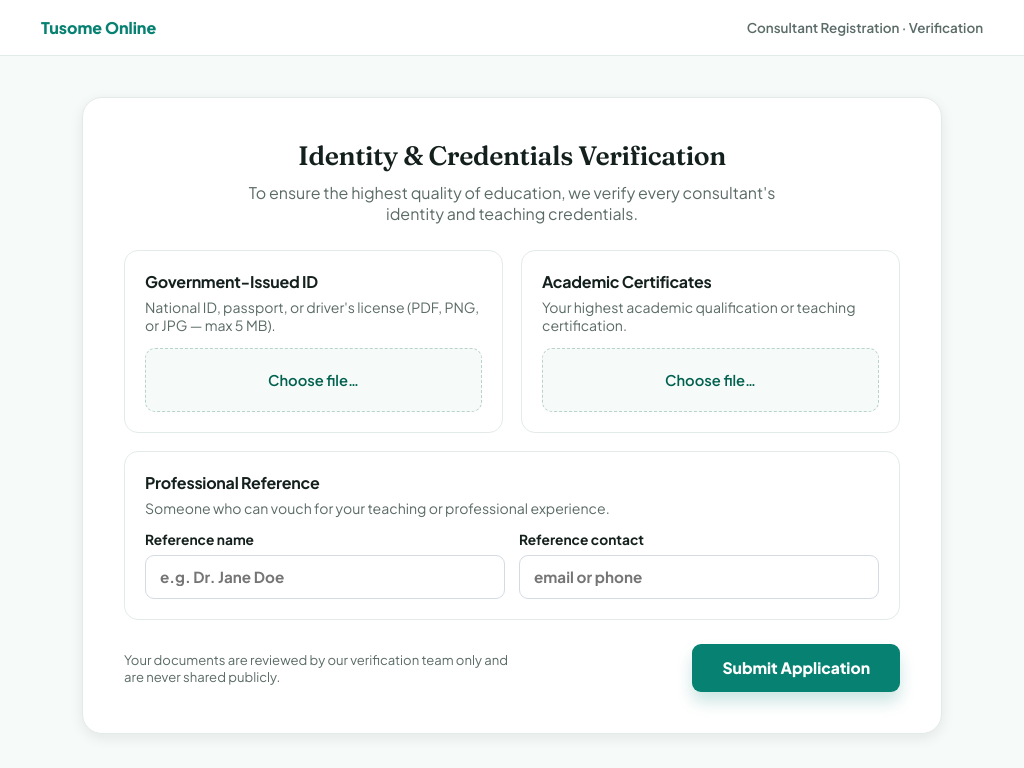
Test: Given a consultant on the verification page › when they submit without documents, then each requirement shows its own message
The width and height of the screenshot is (1024, 768).
Click the button "Submit Application": (796, 668) [692,644,900,692]
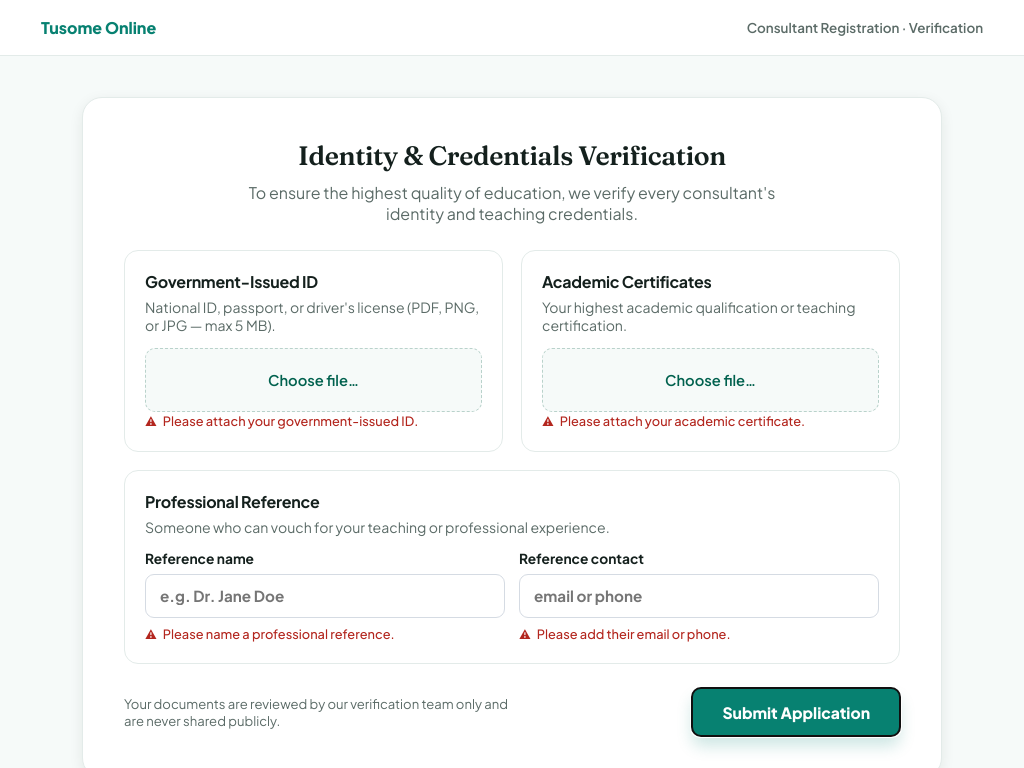
Check: the text "Please attach your government-issued ID." is shown, box [163,413,418,429]
Check: the text "Please attach your academic certificate." is shown, box [560,413,805,429]
Check: the text "Please name a professional reference." is shown, box [163,626,395,642]
